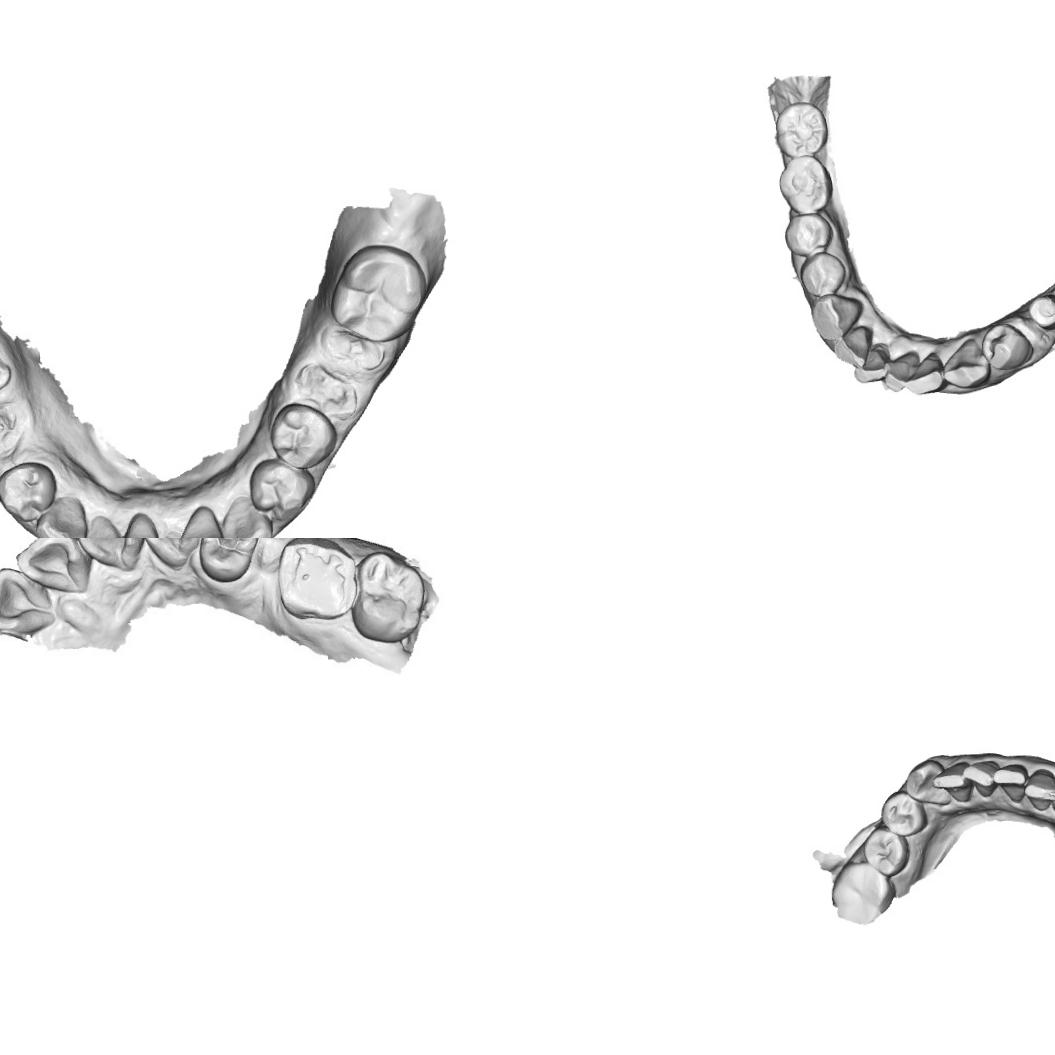abutment: (1026, 291, 1055, 331)
canine: (941, 336, 992, 390), (809, 292, 863, 342), (32, 495, 87, 538), (220, 496, 275, 538), (903, 758, 950, 807)
incisor: (13, 538, 90, 597), (0, 563, 55, 638), (79, 538, 141, 575), (141, 538, 204, 574), (173, 504, 227, 538), (905, 350, 944, 396), (832, 324, 870, 370), (931, 760, 970, 804), (992, 763, 1029, 804), (962, 759, 1000, 798), (883, 352, 919, 392), (1023, 767, 1055, 811), (853, 347, 890, 384), (72, 511, 122, 538), (116, 511, 164, 538)
molar: (328, 243, 430, 344), (348, 550, 426, 644), (275, 538, 357, 621), (830, 858, 897, 924), (778, 154, 834, 216), (774, 101, 829, 159)
premolar: (268, 400, 340, 472), (249, 456, 312, 522), (0, 459, 58, 525), (860, 824, 912, 878), (980, 321, 1034, 372), (197, 538, 258, 582), (782, 212, 834, 258), (880, 790, 928, 838), (798, 252, 848, 298)
